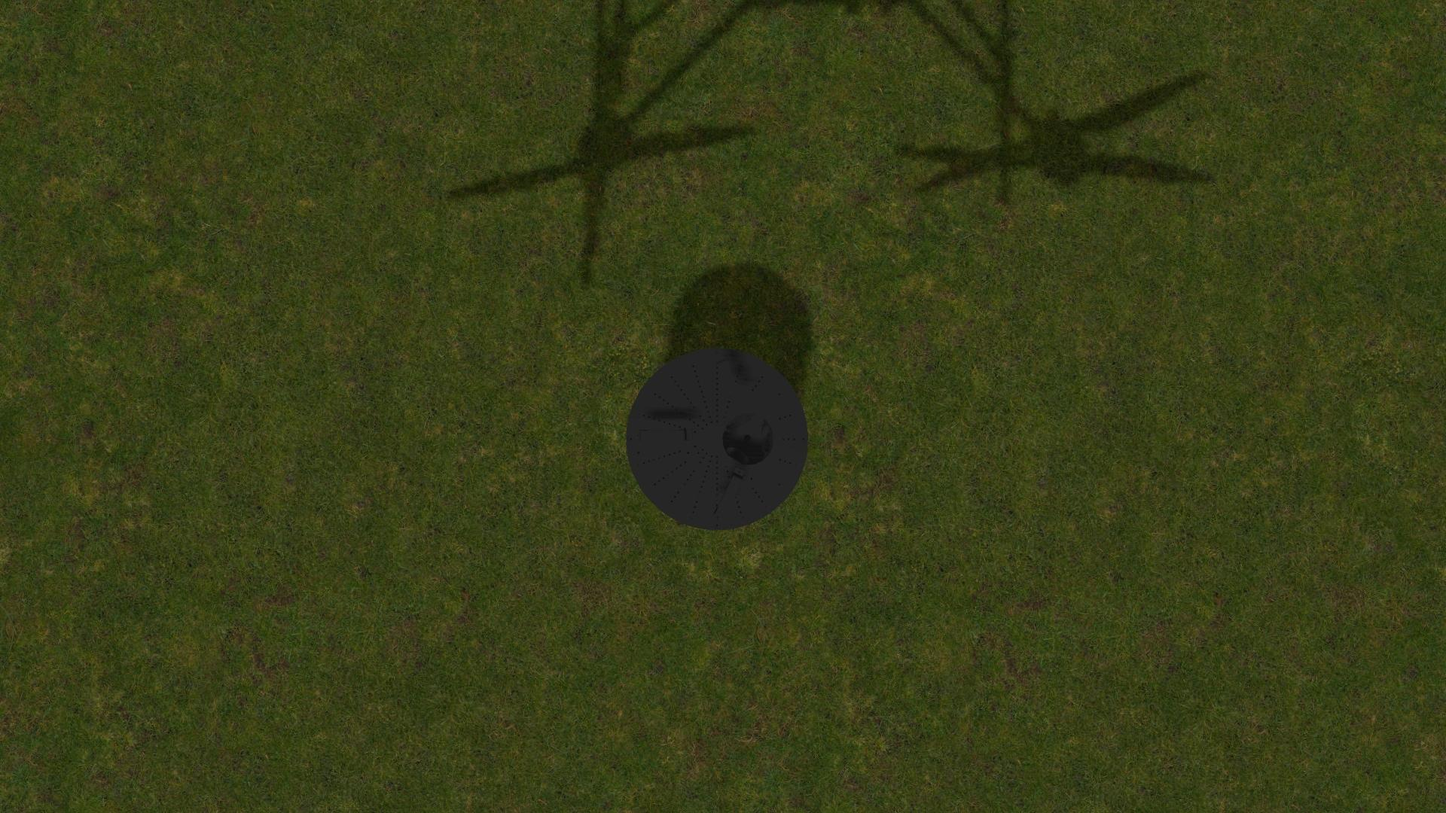alca: (712, 466, 745, 522), (715, 355, 745, 409), (636, 429, 692, 442)
armadilha: (625, 348, 808, 531)
